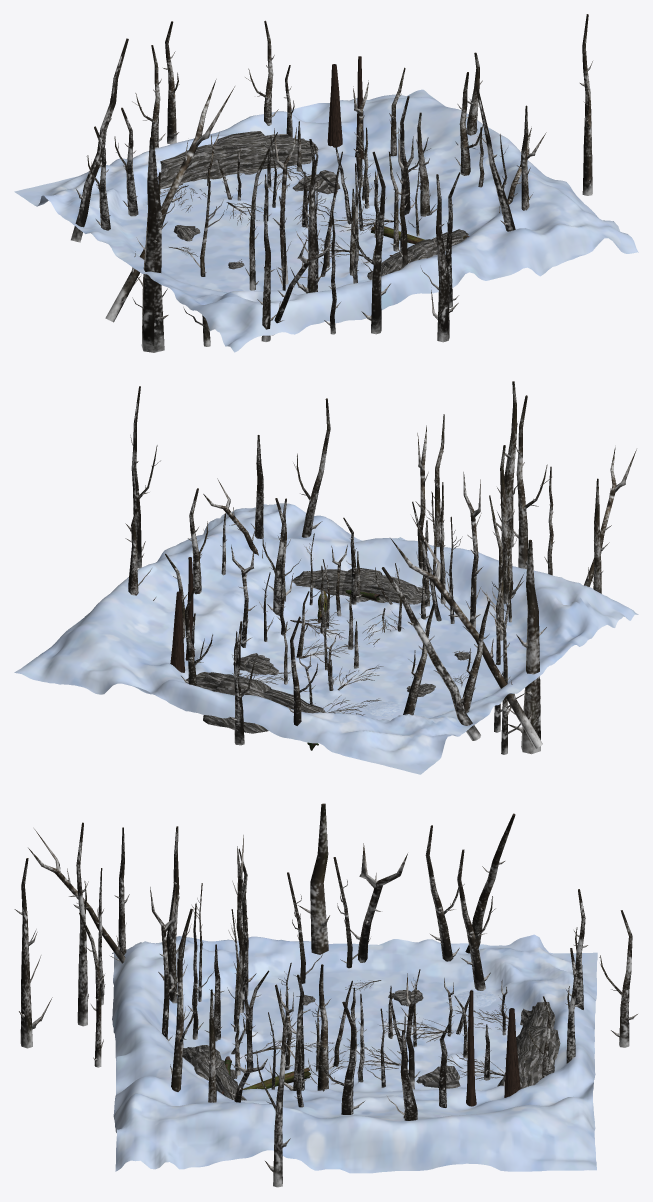
The model's file is env_skb_forest_01_pre.glb.
The picture shows the model from 3 angles, top to bottom: view 1: azimuth 30°, elevation 25°; view 2: azimuth 150°, elevation 25°; view 3: azimuth 270°, elevation 25°; orthographic projection. The views are drawn at different scales.
Visible parts, largest first — view 1: skb_forest_ground_mesh, skb_rockwall_02_full_mesh, skb_tree_01c_mesh (5) (×2), skb_tree_01a_mesh (6) (×2), skb_tree_01f_mesh (3), skb_tree_01g_mesh (11), skb_tree_01d_mesh (4), skb_tree_01f_mesh (4), skb_tree_01g_mesh (10), skb_rockwall_02_full_mesh (1), skb_tree_01g_mesh (9), end_trunk_a1_03_mesh (+18 smaller); view 2: skb_forest_ground_mesh, skb_tree_01c_mesh (5) (×2), skb_tree_01a_mesh (6) (×2), skb_rockwall_02_full_mesh (1), skb_rockwall_02_full_mesh, skb_tree_01d_mesh (4), skb_tree_01g_mesh (11), skb_tree_01f_mesh (3), skb_tree_01f_mesh (4), skb_tree_01g_mesh (10), skb_tree_01g_mesh (9), skb_tree_01g_mesh (3) (+17 smaller); view 3: skb_forest_ground_mesh, skb_tree_01c_mesh (5) (×2), skb_rockwall_02_full_mesh, skb_tree_01a_mesh (6) (×2), skb_tree_01f_mesh (3), skb_tree_01g_mesh (10), skb_tree_01g_mesh (11), skb_tree_01g_mesh (9), skb_rockwall_02_full_mesh (1), skb_tree_01f_mesh (4), skb_tree_01g_mesh (7), skb_tree_01g_mesh (3) (+22 smaller).
Part boxes in pixels (<box>): skb_forest_ground_mesh: <box>14,89,638,352</box>; skb_rockwall_02_full_mesh: <box>157,131,318,188</box>; skb_tree_01c_mesh (5) (×2): <box>136,105,532,352</box>; skb_tree_01a_mesh (6) (×2): <box>105,79,334,335</box>; skb_tree_01f_mesh (3): <box>421,174,458,342</box>; skb_tree_01g_mesh (11): <box>350,151,390,334</box>; skb_tree_01d_mesh (4): <box>71,38,128,242</box>; skb_tree_01f_mesh (4): <box>290,139,322,293</box>; skb_tree_01g_mesh (10): <box>580,14,592,195</box>; skb_rockwall_02_full_mesh (1): <box>367,229,468,279</box>; skb_tree_01g_mesh (9): <box>475,82,515,231</box>; end_trunk_a1_03_mesh: <box>327,64,342,147</box>; skb_forest_ground_mesh: <box>14,503,638,774</box>; skb_tree_01c_mesh (5) (×2): <box>251,435,546,754</box>; skb_tree_01a_mesh (6) (×2): <box>390,447,636,748</box>; skb_rockwall_02_full_mesh (1): <box>292,568,430,604</box>; skb_rockwall_02_full_mesh: <box>186,672,325,733</box>; skb_tree_01d_mesh (4): <box>381,567,480,740</box>; skb_tree_01g_mesh (11): <box>510,395,549,569</box>; skb_tree_01f_mesh (3): <box>492,381,517,547</box>; skb_tree_01f_mesh (4): <box>497,445,523,604</box>; skb_tree_01g_mesh (10): <box>125,386,160,568</box>; skb_tree_01g_mesh (9): <box>293,398,330,537</box>; skb_tree_01g_mesh (3): <box>230,621,259,745</box>; skb_forest_ground_mesh: <box>112,934,597,1173</box>; skb_tree_01c_mesh (5) (×2): <box>205,803,329,1102</box>; skb_rockwall_02_full_mesh: <box>497,1002,560,1088</box>; skb_tree_01a_mesh (6) (×2): <box>28,829,407,963</box>; skb_tree_01f_mesh (3): <box>14,858,52,1048</box>; skb_tree_01g_mesh (10): <box>256,984,290,1187</box>; skb_tree_01g_mesh (11): <box>73,822,88,1026</box>; skb_tree_01g_mesh (9): <box>170,908,198,1091</box>; skb_rockwall_02_full_mesh (1): <box>182,1045,246,1100</box>; skb_tree_01f_mesh (4): <box>158,826,191,1003</box>; skb_tree_01g_mesh (7): <box>457,849,495,990</box>; skb_tree_01g_mesh (3): <box>599,910,637,1047</box>.
Size of what is drawn, in the model's own units: 55.04 by 29.01 by 59.88.
8 materials, 8 textured.
